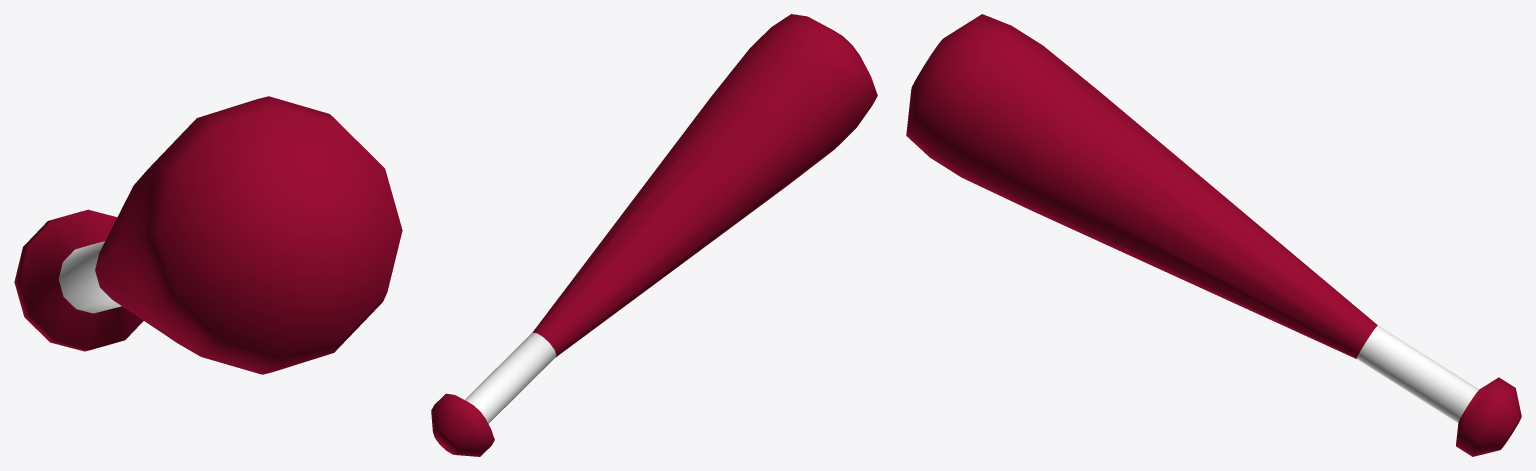
The model's file is Bat.fbx.
3 views of the same model, side by side, from view 1: azimuth 30°, elevation 25°; view 2: azimuth 150°, elevation 25°; view 3: azimuth 270°, elevation 25° (orthographic). The views are drawn at different scales.
Parts seen in each view (by area): view 1: Bonkge; view 2: Bonkge; view 3: Bonkge.
Part boxes in pixels (x1,y1,x2,y2): Bonkge: (14, 96, 402, 374); Bonkge: (431, 14, 877, 456); Bonkge: (906, 14, 1521, 456).
Size of the model in its own units: 28.97 by 39.61 by 61.36.
